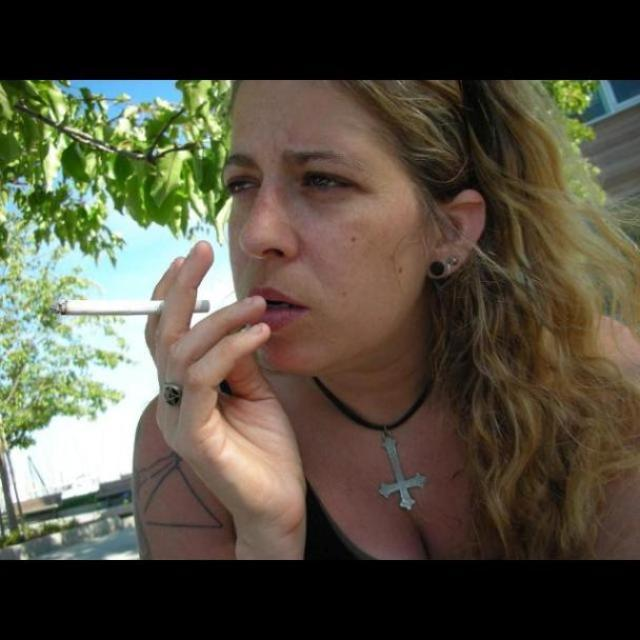rokok: (45, 298, 215, 322)
